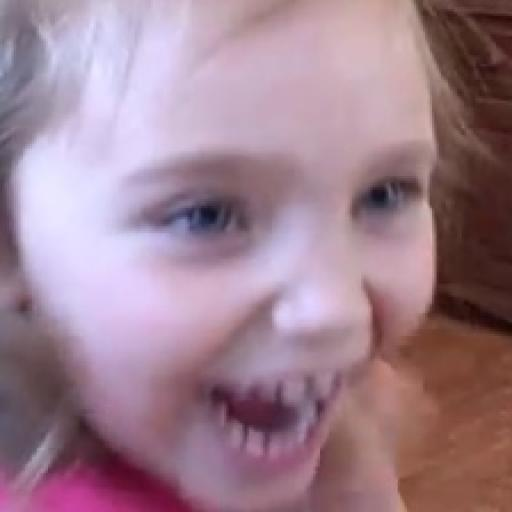Autism: (39, 2, 461, 512)
